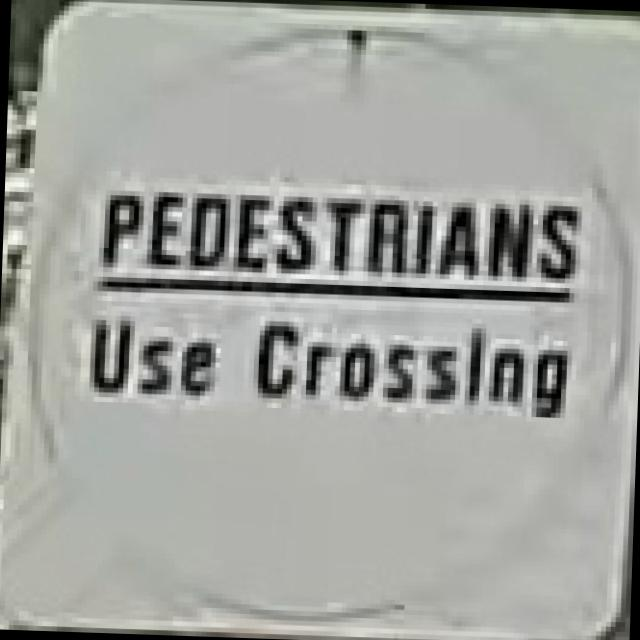pedestriancrossing_sign: (0, 0, 640, 640), (93, 180, 587, 293), (79, 310, 577, 418)
